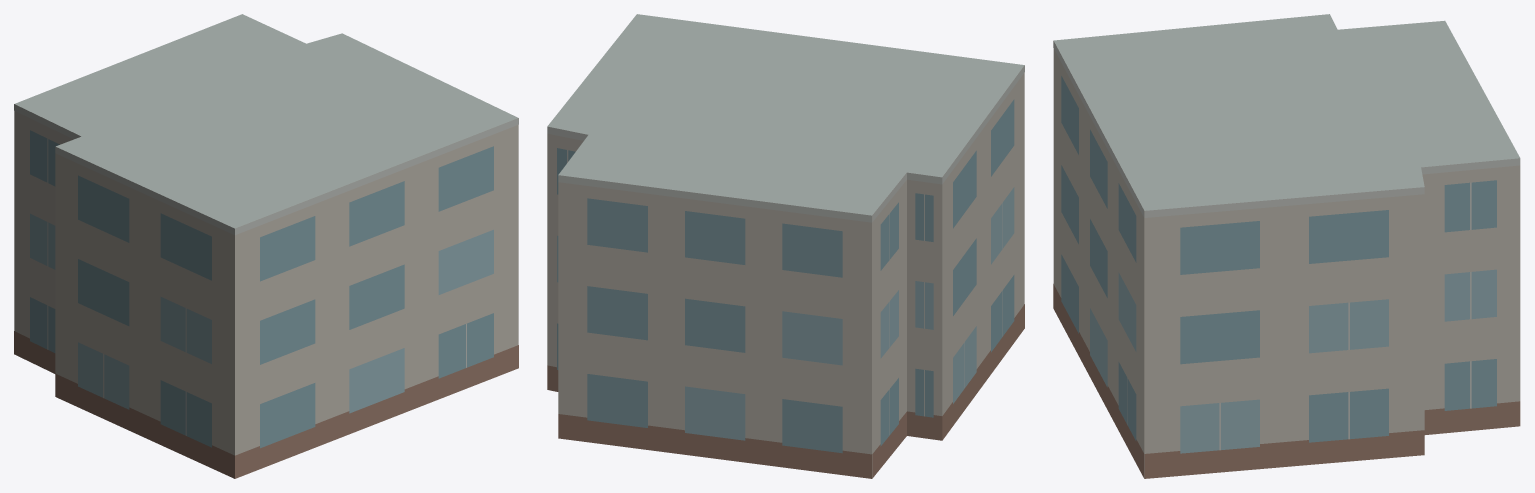
File: survey-upis-32679133.glb
3 views of the same model, side by side, from view 1: azimuth 30°, elevation 25°; view 2: azimuth 150°, elevation 25°; view 3: azimuth 270°, elevation 25° (orthographic). The views are drawn at different scales.
Visible parts, largest first — view 1: survey-upis-32679133.tmp; view 2: survey-upis-32679133.tmp; view 3: survey-upis-32679133.tmp.
Boxes of the visible parts, x1,y1,x2,y2 form: survey-upis-32679133.tmp: [14, 14, 518, 478]; survey-upis-32679133.tmp: [547, 14, 1024, 478]; survey-upis-32679133.tmp: [1053, 14, 1520, 478].
Bounding box in the file's own units: 14.35 × 9.1 × 14.38.
